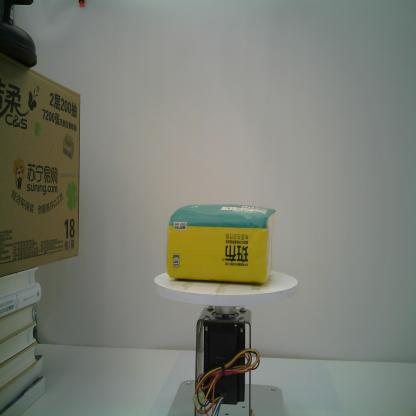Tissue: (165, 200, 275, 286)
